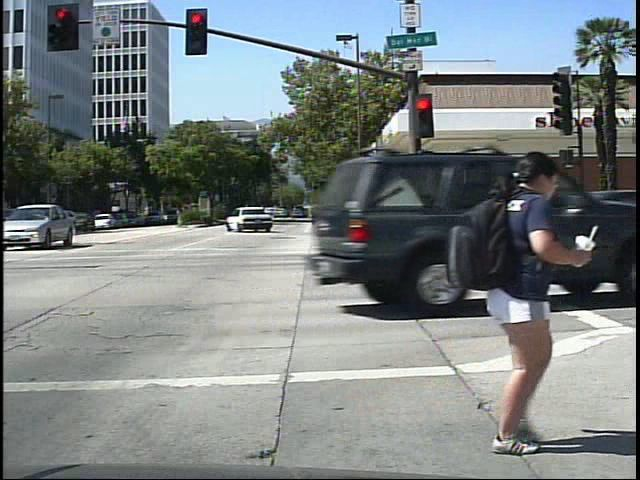person: (432, 129, 596, 458)
